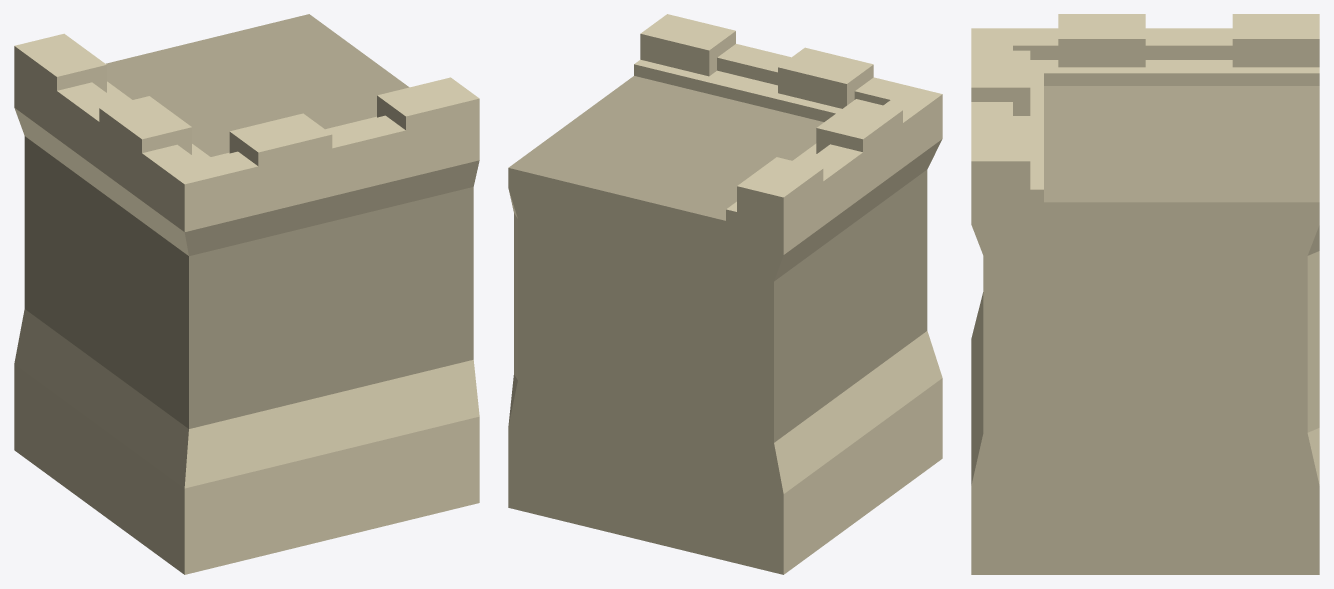
The model's file is wallCornerHalf.fbx.
3 views of the same model, side by side, from view 1: azimuth 30°, elevation 25°; view 2: azimuth 150°, elevation 25°; view 3: azimuth 270°, elevation 25° (orthographic). The views are drawn at different scales.
Parts seen in each view (by area): view 1: wallCornerHalf; view 2: wallCornerHalf; view 3: wallCornerHalf.
Boxes of the visible parts, left/top/right/bottom form: wallCornerHalf: left=14, top=14, right=479, bottom=574; wallCornerHalf: left=508, top=14, right=942, bottom=574; wallCornerHalf: left=971, top=14, right=1319, bottom=574.
Size of the model in its own units: 10 by 13.1 by 10.
